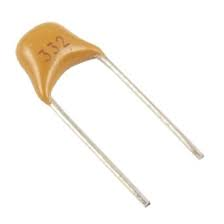ceramic capacitor: (5, 11, 133, 144)
